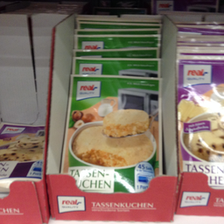cake: (57, 71, 166, 192), (174, 47, 224, 188)
